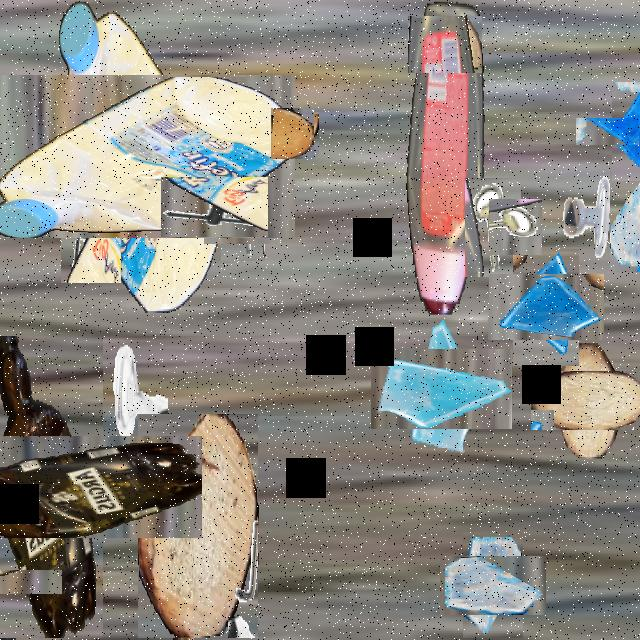glass: (386, 334, 496, 445), (500, 262, 592, 353), (452, 543, 534, 627), (610, 165, 640, 272), (594, 99, 640, 163)
metal: (61, 176, 121, 283), (454, 189, 532, 266), (110, 340, 168, 442), (112, 453, 188, 528), (562, 172, 614, 265), (212, 192, 274, 252), (0, 550, 43, 612)
plastic: (23, 38, 259, 275), (0, 385, 152, 588), (405, 2, 489, 314)
wood: (138, 414, 258, 638), (544, 356, 632, 444), (412, 12, 478, 77), (269, 110, 317, 157)
